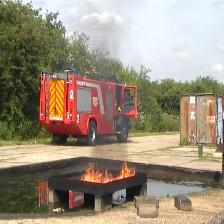fire: (80, 161, 136, 184)
